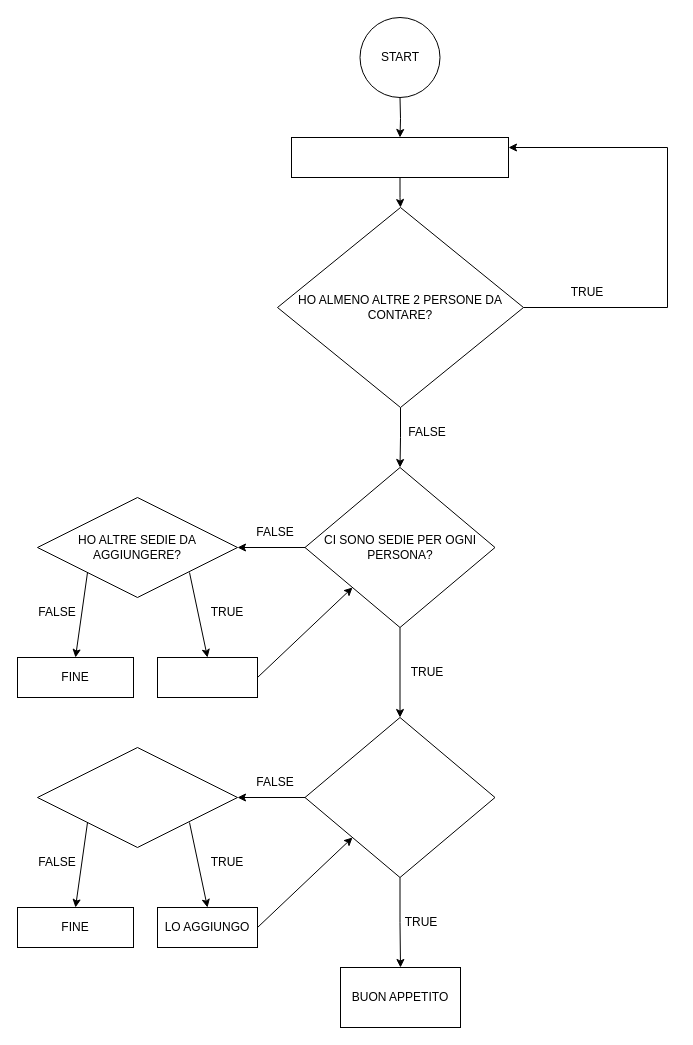
The diagram is 693 pixels wide and 1045 high, and some of its shapes have lost their labels. The centre of each missing label's shape, as x and y in pixels:
CI SONO PIATTI PER OGNI PERSONA?: the point at 399,797
CONTO 2 PERSONE: the point at 399,157
HO ALTRI PIATTI DA AGGIUNGERE?: the point at 137,797
LA AGGIUNGO: the point at 207,677
